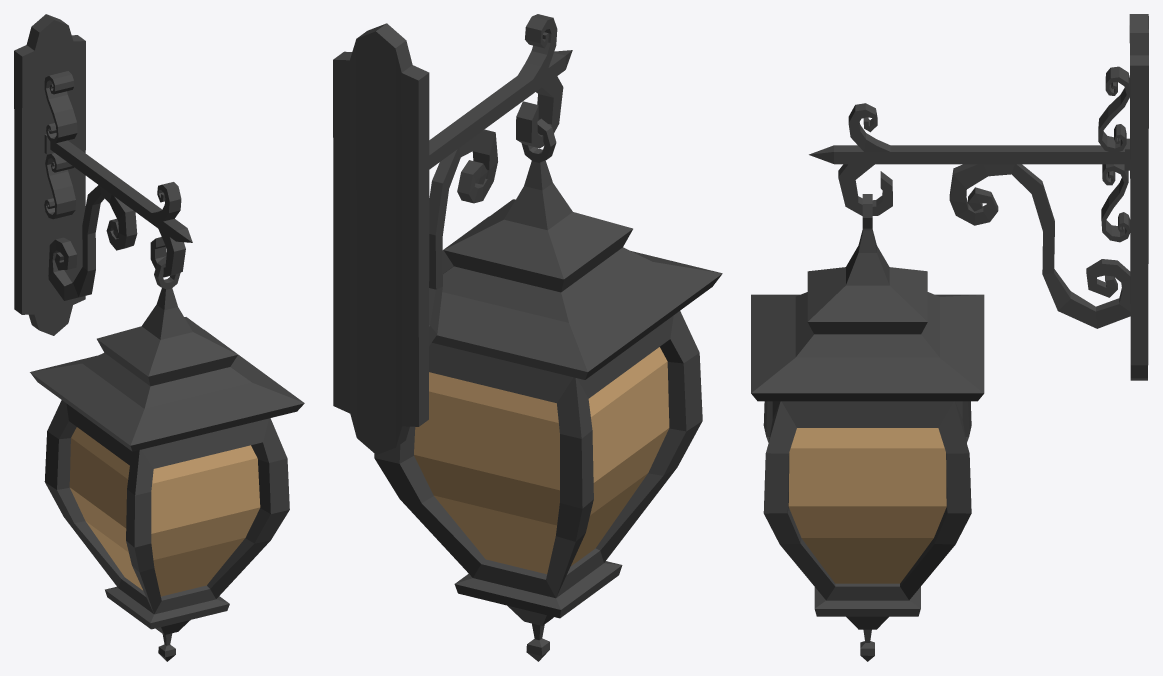
File: lamp2.gltf
The picture shows the model from 3 angles, left to right: view 1: azimuth 30°, elevation 25°; view 2: azimuth 150°, elevation 25°; view 3: azimuth 270°, elevation 25°; orthographic projection. The views are drawn at different scales.
Visible parts, largest first — view 1: lamp2; view 2: lamp2; view 3: lamp2.
Boxes of the visible parts, x1=… form: lamp2: x1=14, y1=14, x2=304, y2=661; lamp2: x1=333, y1=14, x2=722, y2=661; lamp2: x1=751, y1=14, x2=1148, y2=661.
Bounding box in the file's own units: 0.6354 × 1.95 × 1.08.
